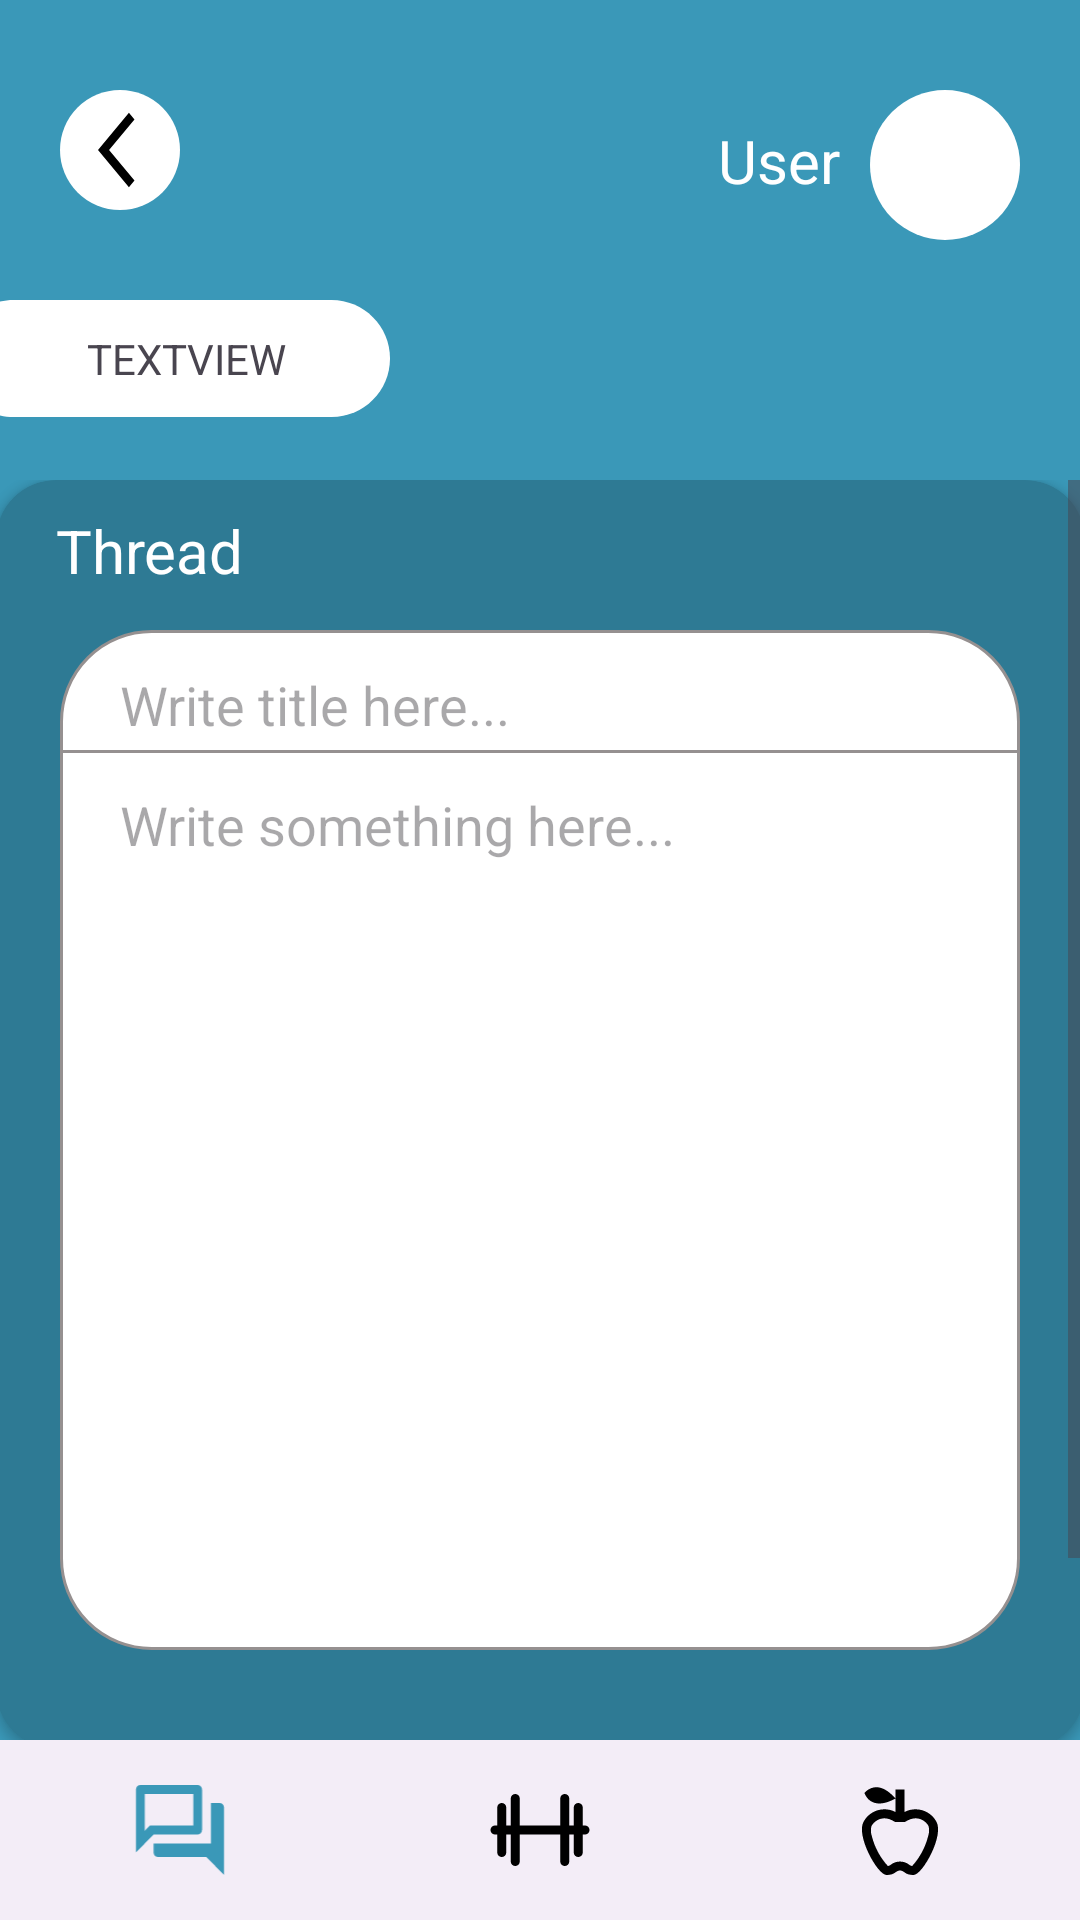

Screen size 1080px×1920px. Icon name, then its center in pixels as [x,y]:
arrow back: [120,150]
